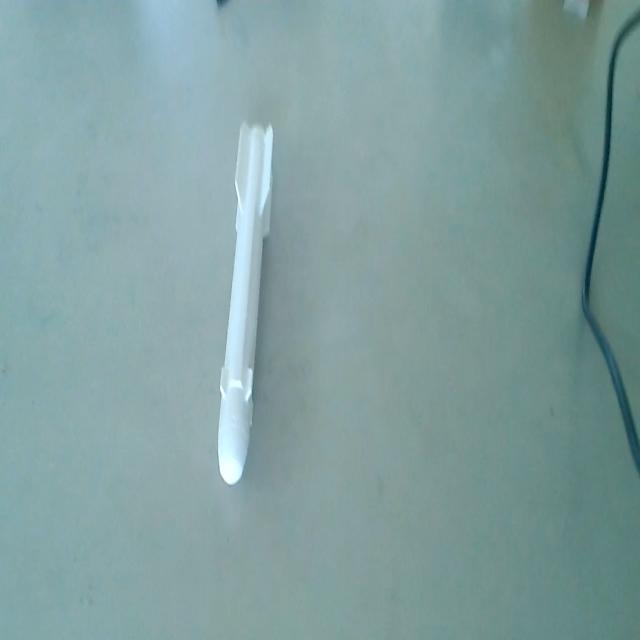Rocket: (215, 119, 277, 489)
